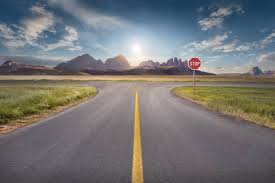stop sign: (188, 58, 201, 70)
